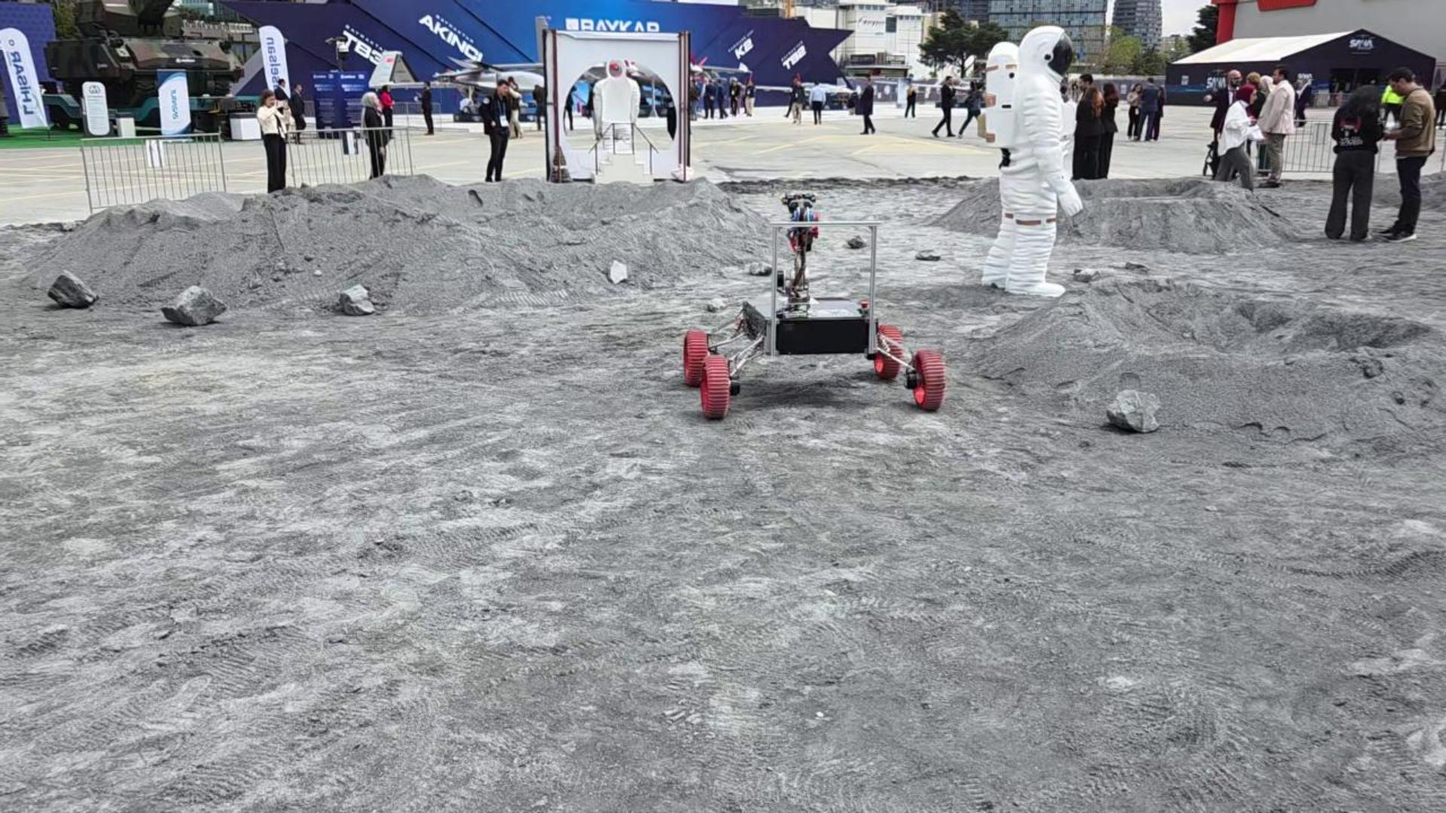rock: (162, 286, 226, 325), (1107, 390, 1159, 431), (47, 271, 97, 307), (340, 285, 374, 314), (608, 260, 627, 283), (748, 262, 772, 276), (706, 297, 726, 312), (846, 235, 866, 250), (915, 251, 940, 261)
